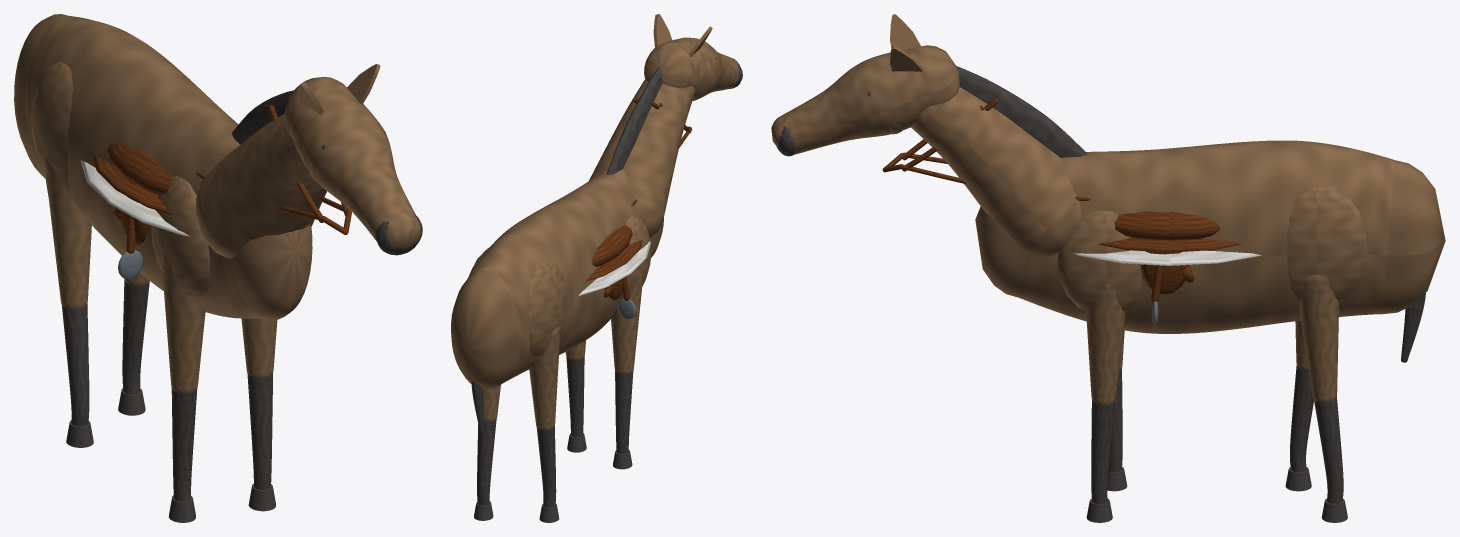
File: riding-horse.glb
3 views of the same model, side by side, from view 1: azimuth 30°, elevation 25°; view 2: azimuth 150°, elevation 25°; view 3: azimuth 270°, elevation 25° (orthographic). The views are drawn at different scales.
Parts seen in each view (by area): view 1: horse-standing-tacked; view 2: horse-standing-tacked; view 3: horse-standing-tacked.
Part boxes in pixels (x1=…): horse-standing-tacked: x1=14, y1=14, x2=422, y2=522; horse-standing-tacked: x1=451, y1=14, x2=742, y2=522; horse-standing-tacked: x1=771, y1=14, x2=1445, y2=522.
Bounding box in the file's own units: 0.68 × 2.16 × 2.8.
Materials: 5 (5 with a texture image).
